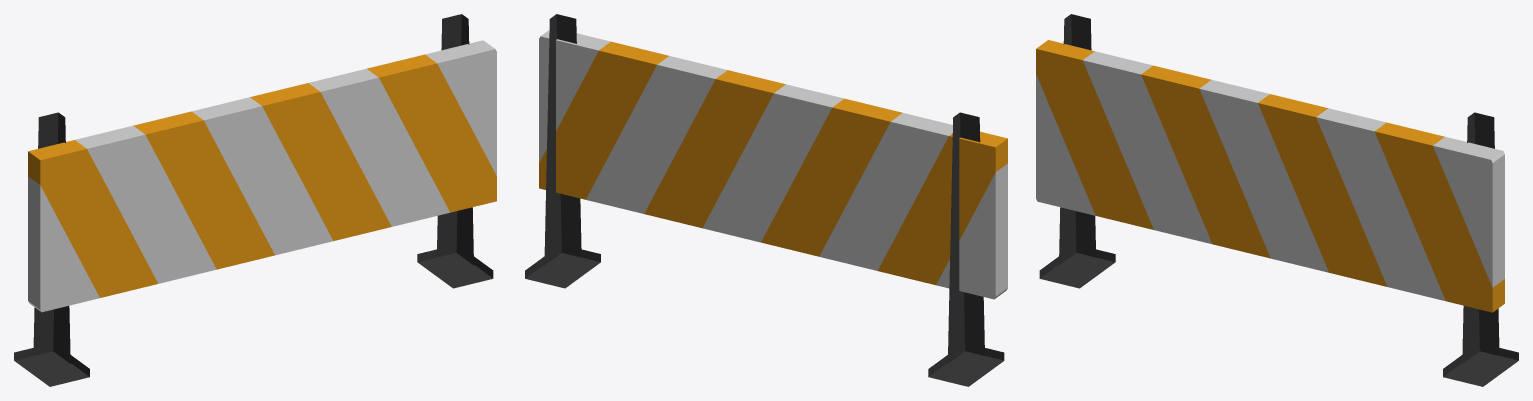
The model's file is road barrier.fbx.
The picture shows the model from 3 angles, left to right: view 1: azimuth 30°, elevation 25°; view 2: azimuth 150°, elevation 25°; view 3: azimuth 330°, elevation 25°; orthographic projection.
Parts seen in each view (by area): view 1: Cube, Cube.001; view 2: Cube, Cube.001; view 3: Cube, Cube.001.
Part boxes in pixels (<box>): Cube: <box>28,40,496,312</box>; Cube.001: <box>14,14,493,386</box>; Cube: <box>539,30,1007,299</box>; Cube.001: <box>525,14,1004,386</box>; Cube: <box>1036,40,1504,312</box>; Cube.001: <box>1039,14,1518,386</box>.
Bounding box in the file's own units: 627 × 330 × 85.38.
